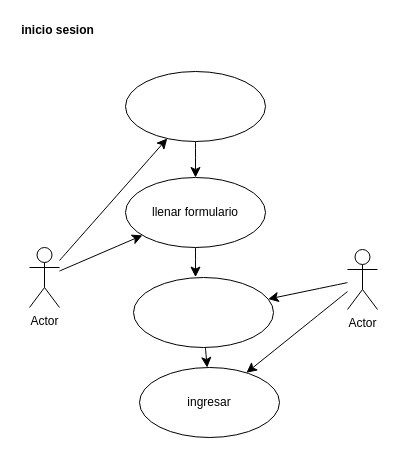
The diagram is 395 pixels wide and 455 high, and some of its shapes have lost their labels. The shapes that lost their labels are listed below. From the top down, each one's box as (x1, y1, x2, y2) in pixels, then its label:
(124, 70, 266, 142): ingresar inicio
(132, 276, 274, 348): validar formulario
